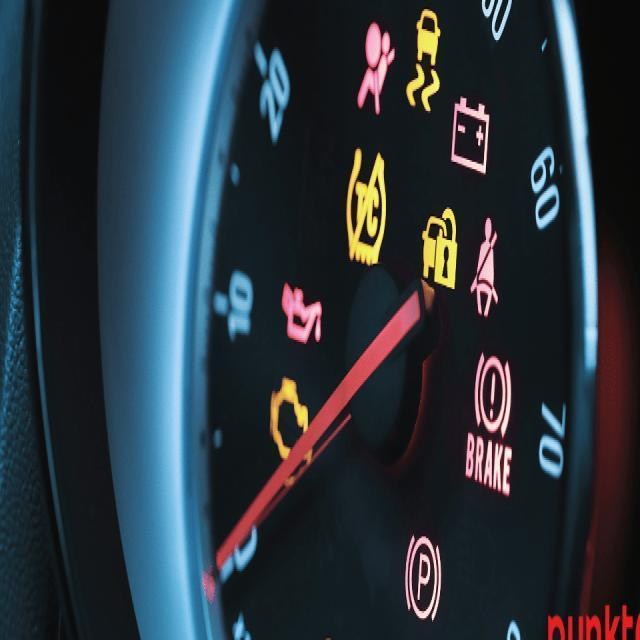Seat Belt: (475, 218, 496, 318)
